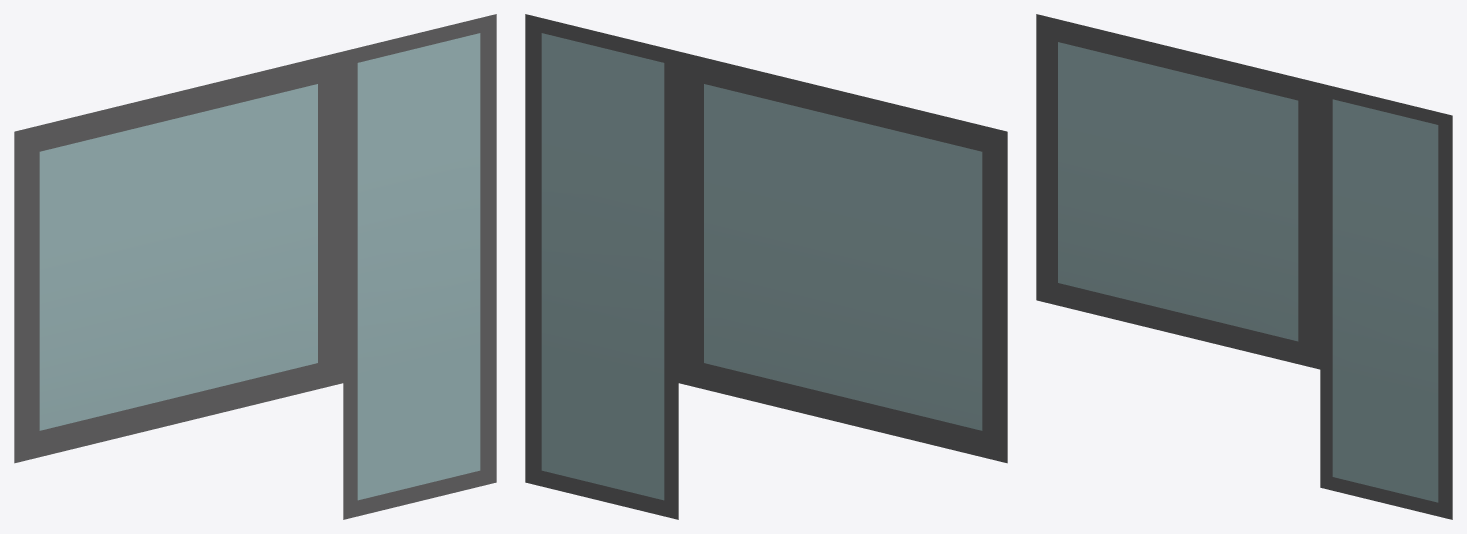
File: New_frame_balcony.fbx
3 views of the same model, side by side, from view 1: azimuth 30°, elevation 25°; view 2: azimuth 150°, elevation 25°; view 3: azimuth 330°, elevation 25° (orthographic). The views are drawn at different scales.
Parts seen in each view (by area): view 1: New_frame_balcony; view 2: New_frame_balcony; view 3: New_frame_balcony.
Part boxes in pixels (x1,y1,x2,y2): New_frame_balcony: (14,14,496,519); New_frame_balcony: (525,14,1007,519); New_frame_balcony: (1036,14,1452,519).
Bounding box in the file's own units: 5.15 × 1e-06 × 4.79.
